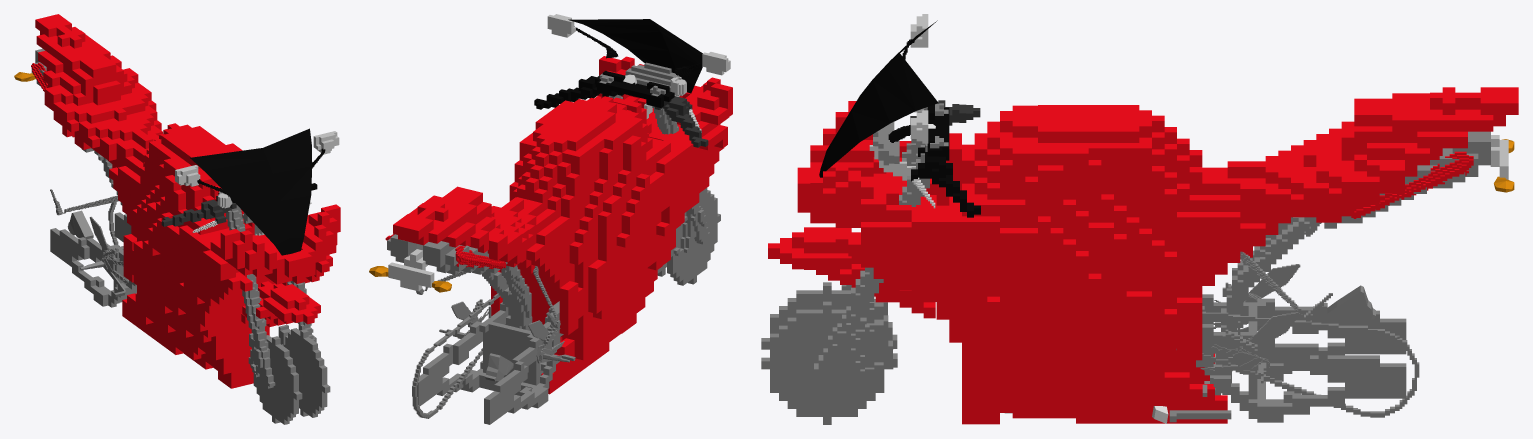
File: byke.fbx
3 views of the same model, side by side, from view 1: azimuth 30°, elevation 25°; view 2: azimuth 150°, elevation 25°; view 3: azimuth 270°, elevation 25° (orthographic). The views are drawn at different scales.
Visible parts, largest first — view 1: instance_0.021; view 2: instance_0.021; view 3: instance_0.021.
Boxes of the visible parts, <box> form: instance_0.021: <box>14,14,340,424</box>; instance_0.021: <box>369,14,732,424</box>; instance_0.021: <box>761,14,1518,424</box>.
Size of the model in its own units: 2821 by 4283 by 8128.
